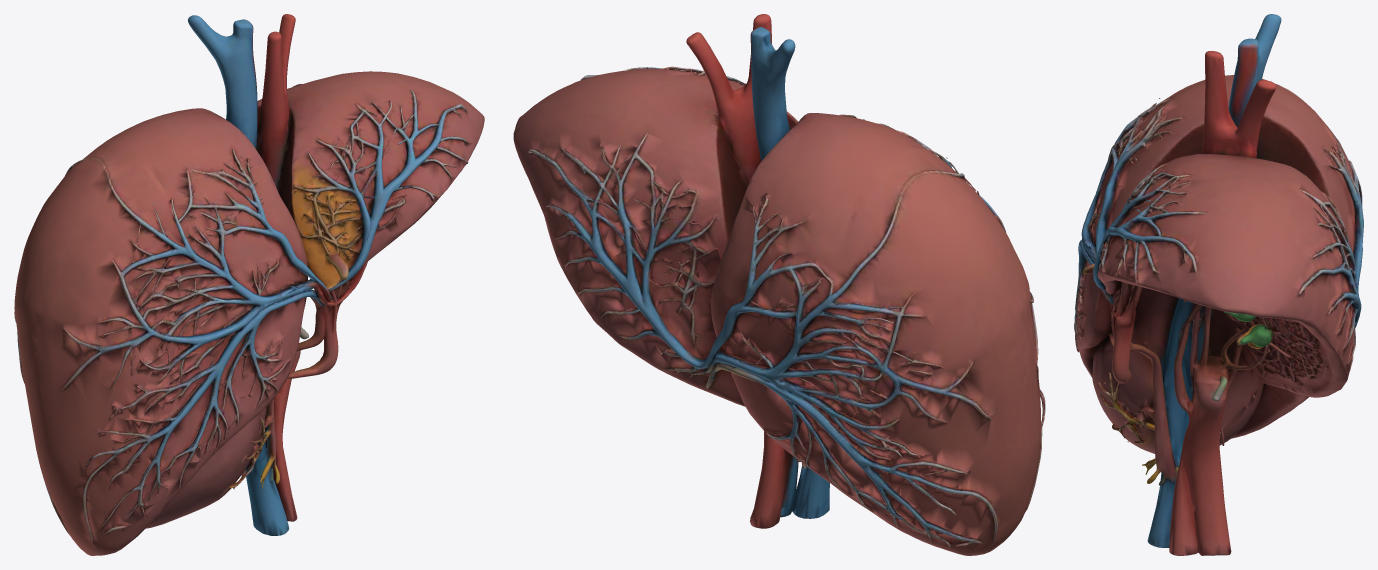
File: liver.glb
3 renders of one model, left to right at view 1: azimuth 30°, elevation 25°; view 2: azimuth 150°, elevation 25°; view 3: azimuth 270°, elevation 25°, orthographic. The views are drawn at different scales.
Parts seen in each view (by area): view 1: tripo_node_1c7e641c-603f-41bd-b81d-f90f99063845; view 2: tripo_node_1c7e641c-603f-41bd-b81d-f90f99063845; view 3: tripo_node_1c7e641c-603f-41bd-b81d-f90f99063845.
Boxes of the visible parts, <box> form: tripo_node_1c7e641c-603f-41bd-b81d-f90f99063845: <box>14,14,484,555</box>; tripo_node_1c7e641c-603f-41bd-b81d-f90f99063845: <box>513,14,1045,555</box>; tripo_node_1c7e641c-603f-41bd-b81d-f90f99063845: <box>1074,14,1363,555</box>.
Size of the model in its own units: 0.9928 by 0.9996 by 0.5122.
1 material, 1 textured.
